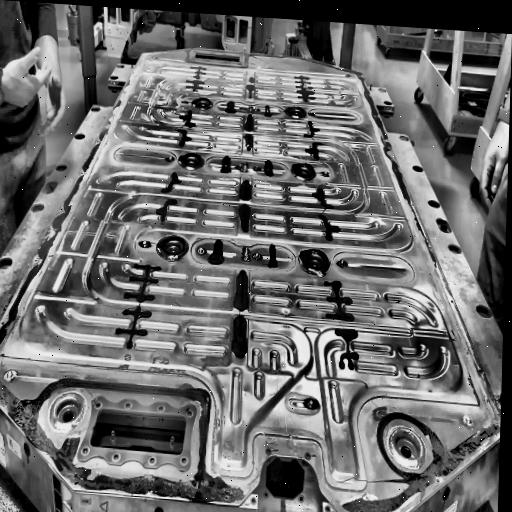b_casing: (0, 46, 503, 512)
